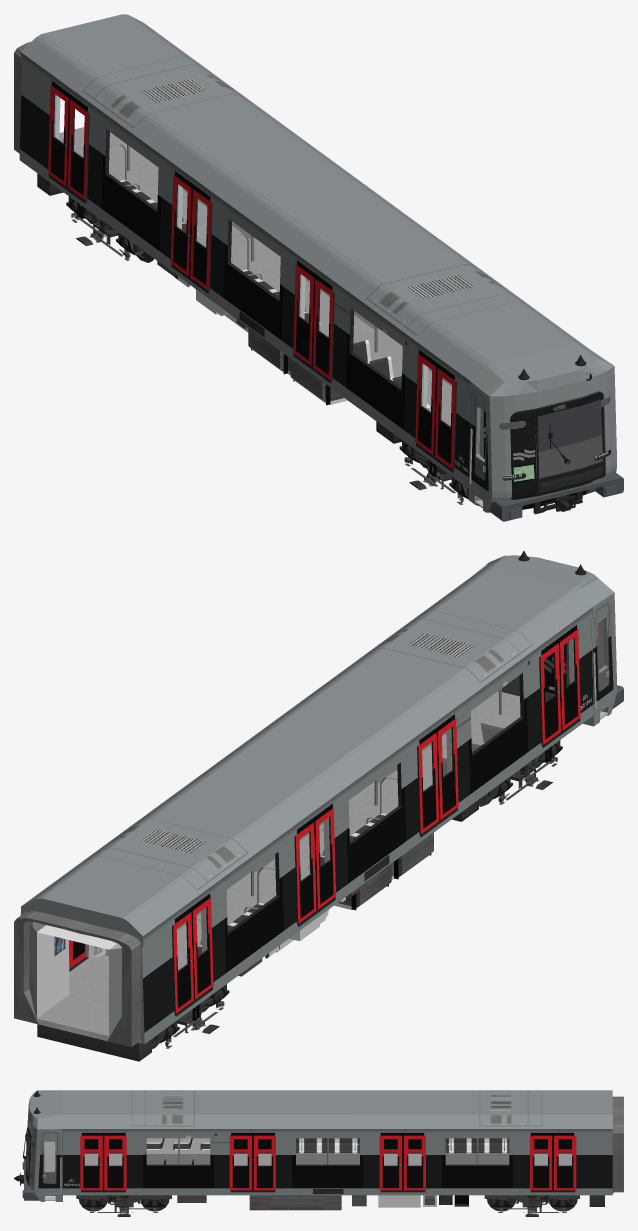
Rendered from amsterdam_m7_mc.obj.
3 renders of one model, top to bottom at view 1: azimuth 30°, elevation 25°; view 2: azimuth 150°, elevation 25°; view 3: azimuth 270°, elevation 25°, orthographic. The views are drawn at different scales.
Parts seen in each view (by area): view 1: jibung, side, front, badak, door_RF, door_RB, habu, bogie, frontglass, under, seat, sidebupums (+2 smaller); view 2: jibung, side, badak, door_RB, mak, door_RF, habu, back, bogie, back_in, insidebong, sidebupums (+4 smaller); view 3: side, jibung, door_LF, door_LB, badak, habu, bogie, seat, mak, inside, front, sidebupums (+3 smaller).
Boxes of the visible parts, bbox=[...] form: jibung: bbox=[21, 14, 605, 392]; side: bbox=[19, 52, 609, 503]; front: bbox=[486, 357, 616, 512]; badak: bbox=[61, 132, 451, 426]; door_RF: bbox=[67, 99, 456, 469]; door_RB: bbox=[48, 85, 436, 455]; habu: bbox=[37, 173, 436, 476]; bogie: bbox=[66, 196, 479, 506]; frontglass: bbox=[537, 399, 601, 452]; under: bbox=[489, 472, 623, 521]; seat: bbox=[109, 143, 430, 409]; sidebupums: bbox=[48, 174, 616, 519]; jibung: bbox=[22, 555, 609, 935]; side: bbox=[20, 564, 613, 1043]; badak: bbox=[46, 691, 520, 1026]; door_RB: bbox=[172, 643, 561, 1013]; mak: bbox=[14, 911, 140, 1046]; door_RF: bbox=[192, 629, 580, 999]; habu: bbox=[37, 746, 551, 1061]; back: bbox=[21, 898, 142, 1043]; bogie: bbox=[152, 740, 562, 1048]; back_in: bbox=[37, 925, 121, 1035]; insidebong: bbox=[33, 688, 501, 1007]; sidebupums: bbox=[175, 551, 616, 1016]; side: bbox=[38, 1129, 612, 1195]; jibung: bbox=[29, 1090, 612, 1128]; door_LF: bbox=[80, 1135, 552, 1190]; door_LB: bbox=[103, 1135, 576, 1190]; badak: bbox=[44, 1154, 571, 1171]; habu: bbox=[110, 1195, 604, 1210]; bogie: bbox=[76, 1195, 579, 1216]; seat: bbox=[146, 1138, 509, 1164]; mak: bbox=[612, 1096, 623, 1192]; inside: bbox=[44, 1138, 571, 1153]; front: bbox=[25, 1100, 41, 1201]; sidebupums: bbox=[22, 1090, 575, 1201].
Size of the model in its own units: 3.24 by 3.94 by 20.9.
30 materials, 29 textured.
